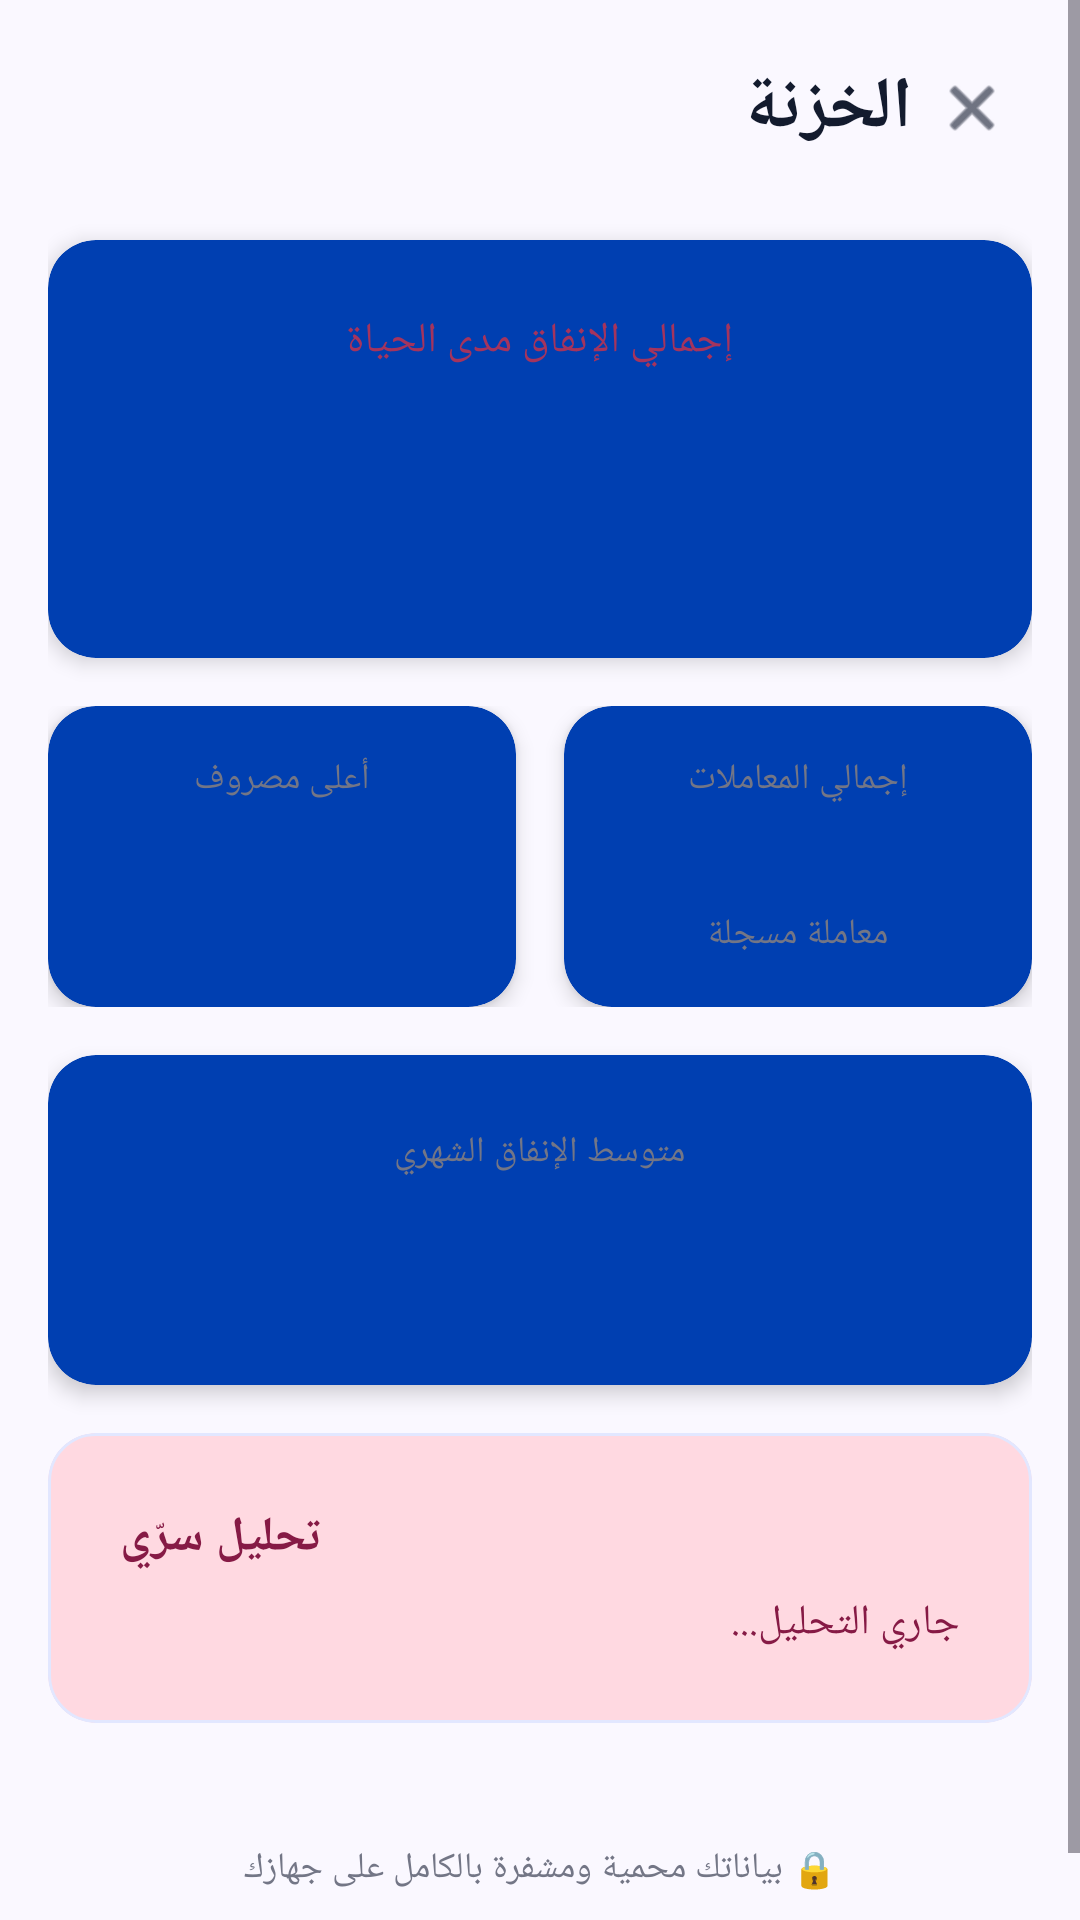

Icons on this 1080x1920 Android screen, each with its box as rect(x1, y1, x2, y2):
close clear cancel: rect(949, 85, 995, 131)
